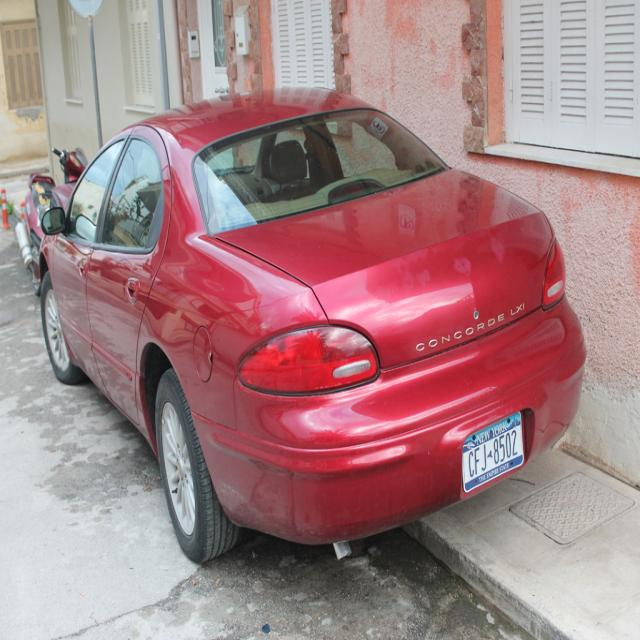car: (36, 85, 586, 562)
